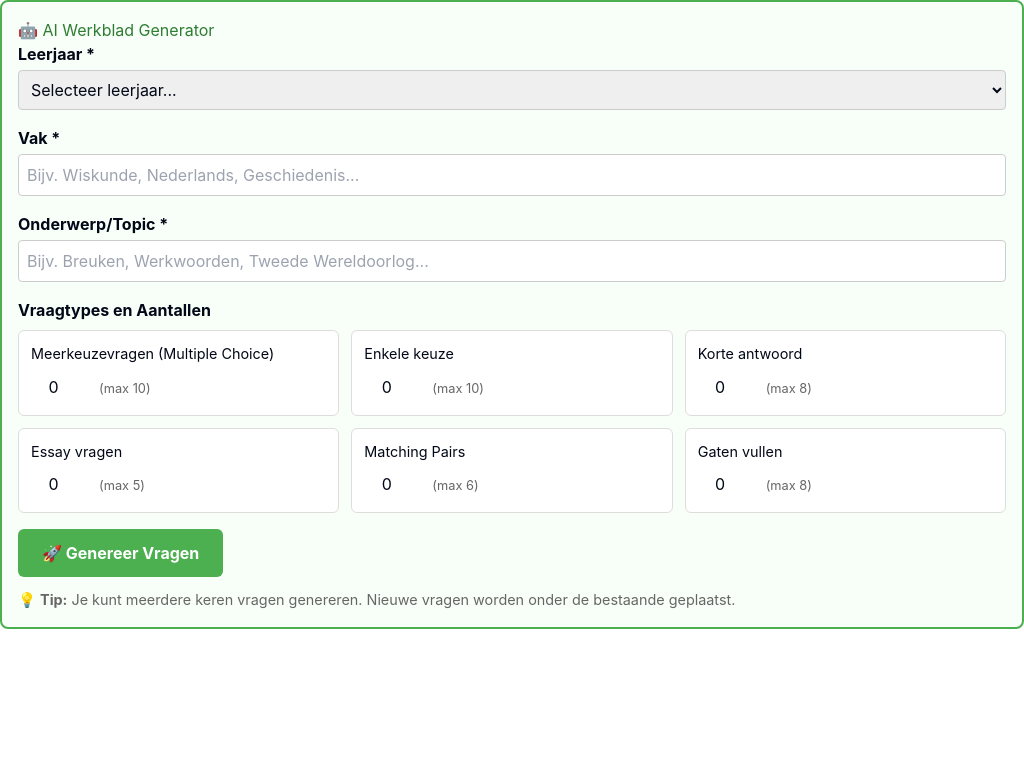
Test: AIWorksheetGenerator › shows validation error when required fields are missing
Try to generate without filling required fields
Click the button "🚀 Genereer Vragen" at (121, 553), box [18,529,223,577]
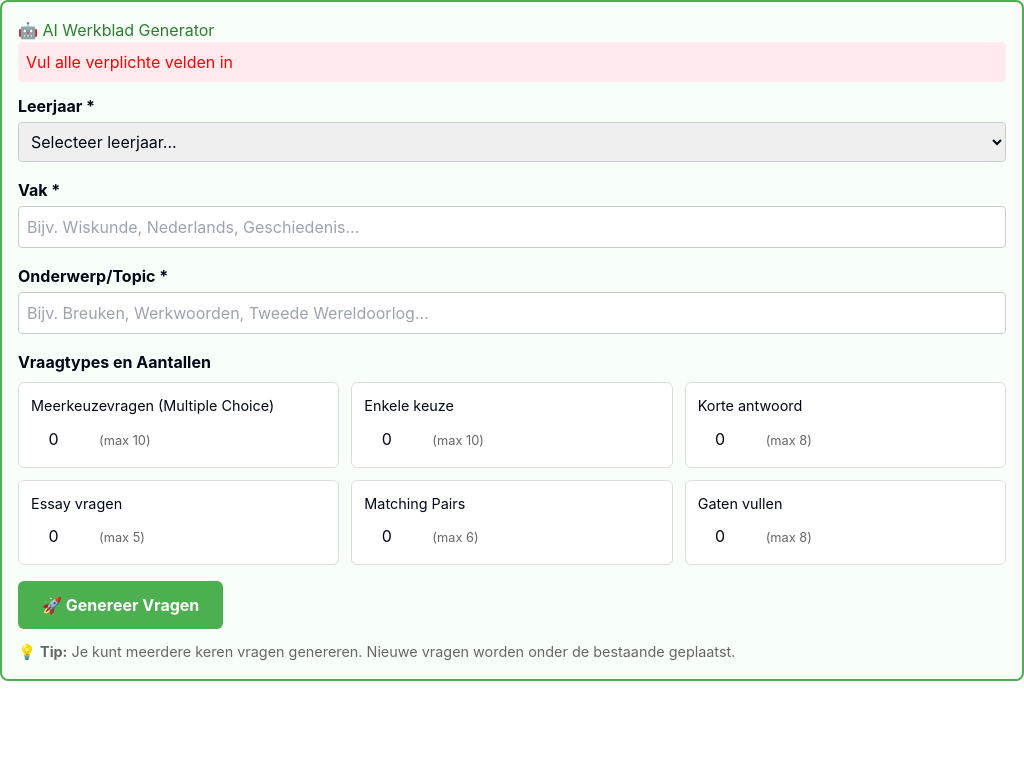
Now the text "Vul alle verplichte velden in" is shown, box [18,42,1006,82]
